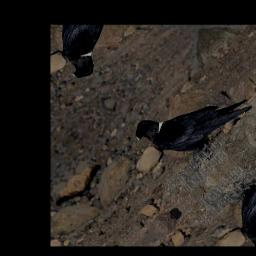Crow: (127, 58, 256, 188)
